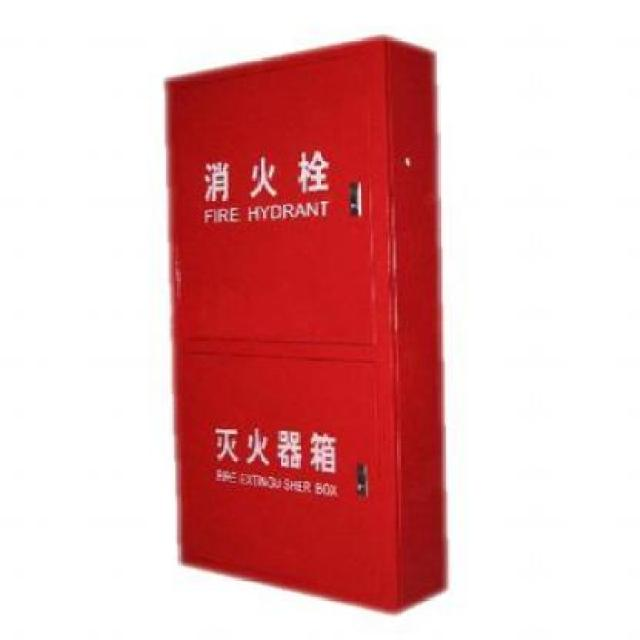firehydrant: (157, 31, 455, 622)
